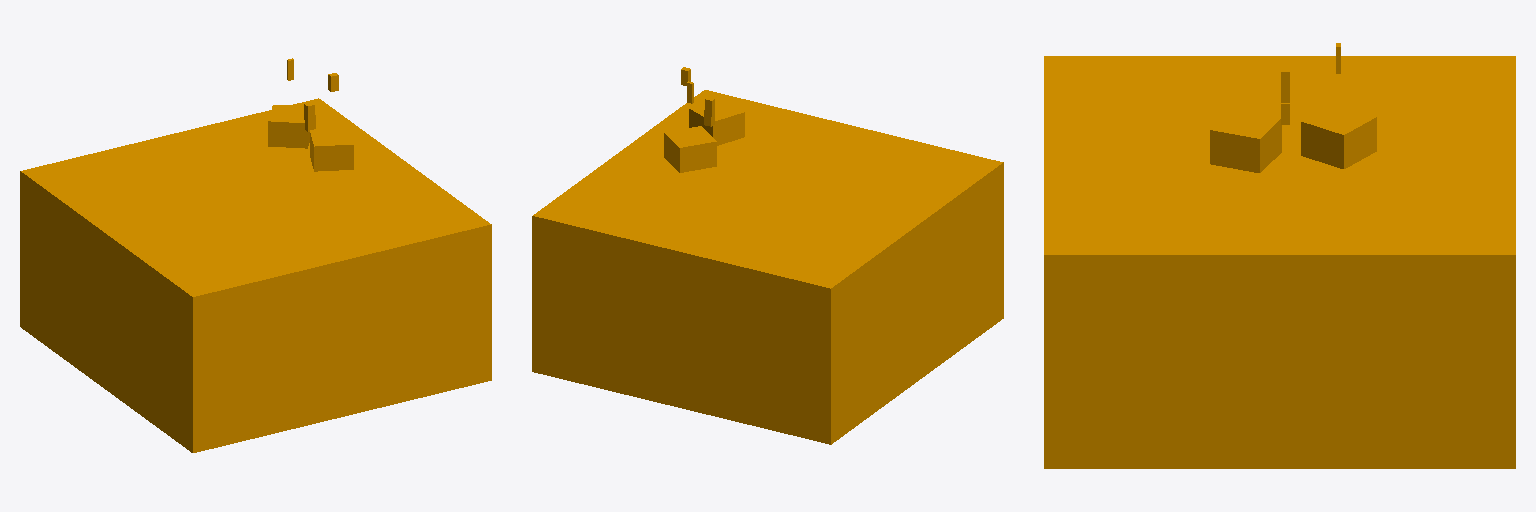
URDF robot description (obj.urdf):
<?xml version="1.0" ?>
<robot name="obj.urdf">
  <link name="baseLink">
    <visual>
      <origin rpy="0 0 0" xyz="0 0 0"/>
      <geometry>
        <mesh filename="./obj-and-urdf/debug_world_mesh.obj" />
      </geometry>
    </visual>
    <collision>
      <origin rpy="0 0 0" xyz="0 0 0"/>
      <geometry>
        <mesh filename="./obj-and-urdf/debug_world_mesh.obj" />
      </geometry>
    </collision>
  </link>
</robot>

--- What the picture shows (computed from the rendered views, not written in the file) ---
3 views of the same robot in one strip: view 1: azimuth 30°, elevation 25°; view 2: azimuth 150°, elevation 25°; view 3: azimuth 270°, elevation 25° (orthographic).
Model obj.urdf with 1 links and 0 joints (none), rooted at baseLink, posed every joint at zero.
Visible links, largest first — view 1: baseLink; view 2: baseLink; view 3: baseLink.
Boxes of the visible links, x1,y1,x2,y2 form: baseLink: (20, 58, 491, 452); baseLink: (532, 67, 1003, 444); baseLink: (1044, 43, 1515, 468).
Bounding box of the posed robot: 0.8 × 0.8 × 0.6777 m (x, y, z).
1 mesh visuals loaded from 1 distinct referenced files (1 OBJ).